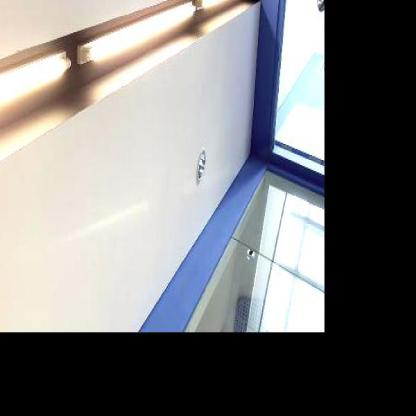light_on: (0, 26, 76, 165), (77, 0, 200, 85), (201, 0, 250, 19)
